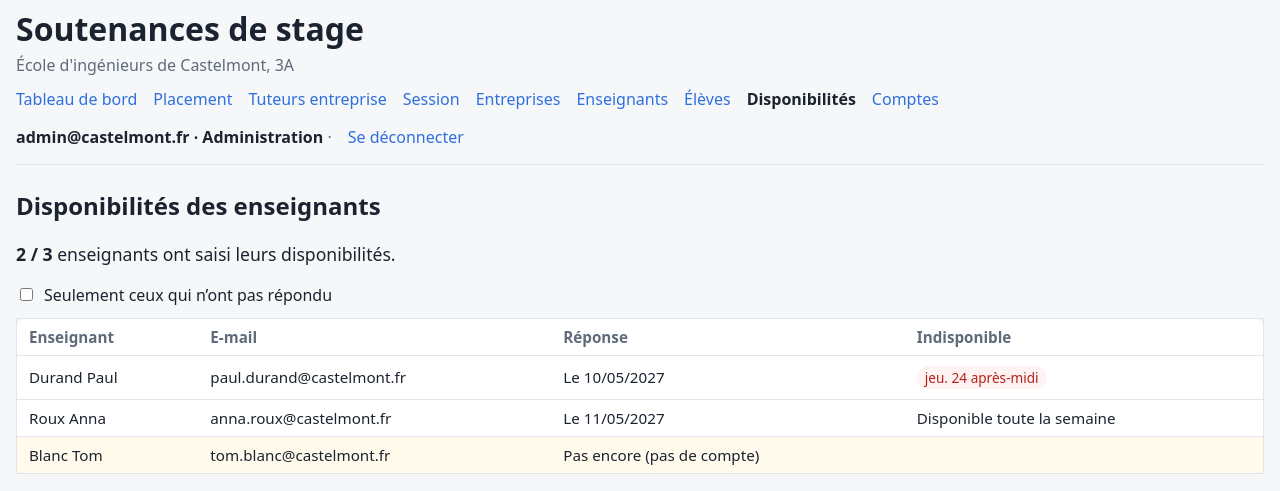
Test: AvailabilityPage (the admin overview) › keeps only those who have not answered, on demand
The image size is (1280, 491).
Click the checkbox labelled "Seulement ceux qui n’ont pas répondu" at coordinates (26, 294), box [20,288,33,301]
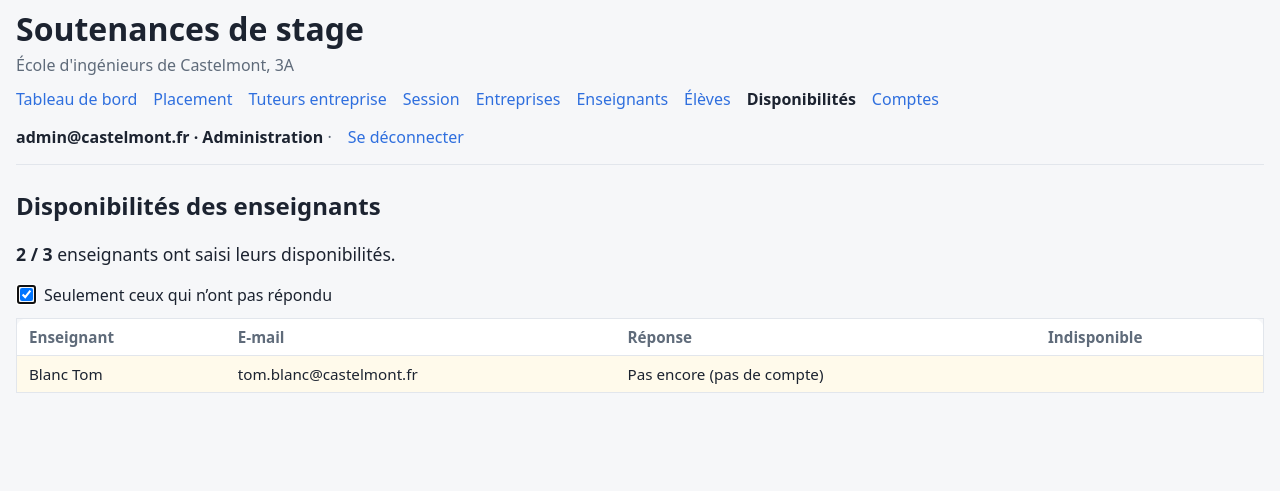
expect the text "Blanc Tom" is shown: met, box [16,355,226,392]
expect the text "Durand Paul" is gone: met
